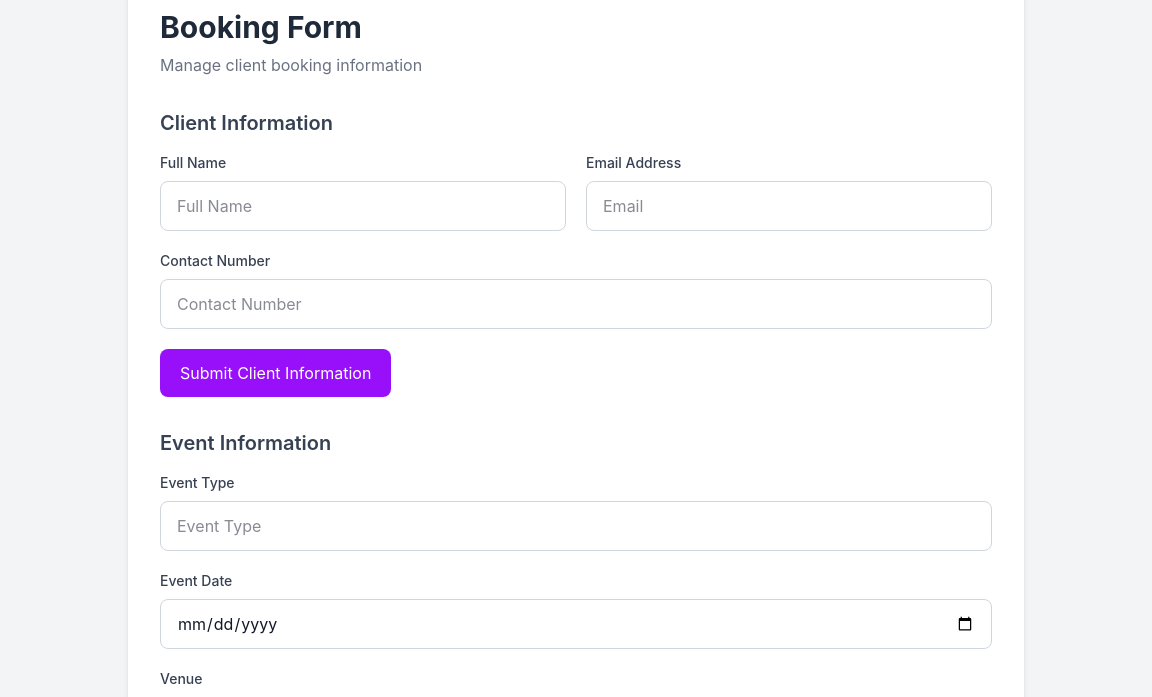
Test: BookingForm Component › shows error message when some fields are missing
The width and height of the screenshot is (1152, 697).
Type "Juan Dela Cruz" into the field with placeholder "Full Name".
click(363, 206); type("Juan Dela Cruz")  # box left=160, top=181, right=566, bottom=231
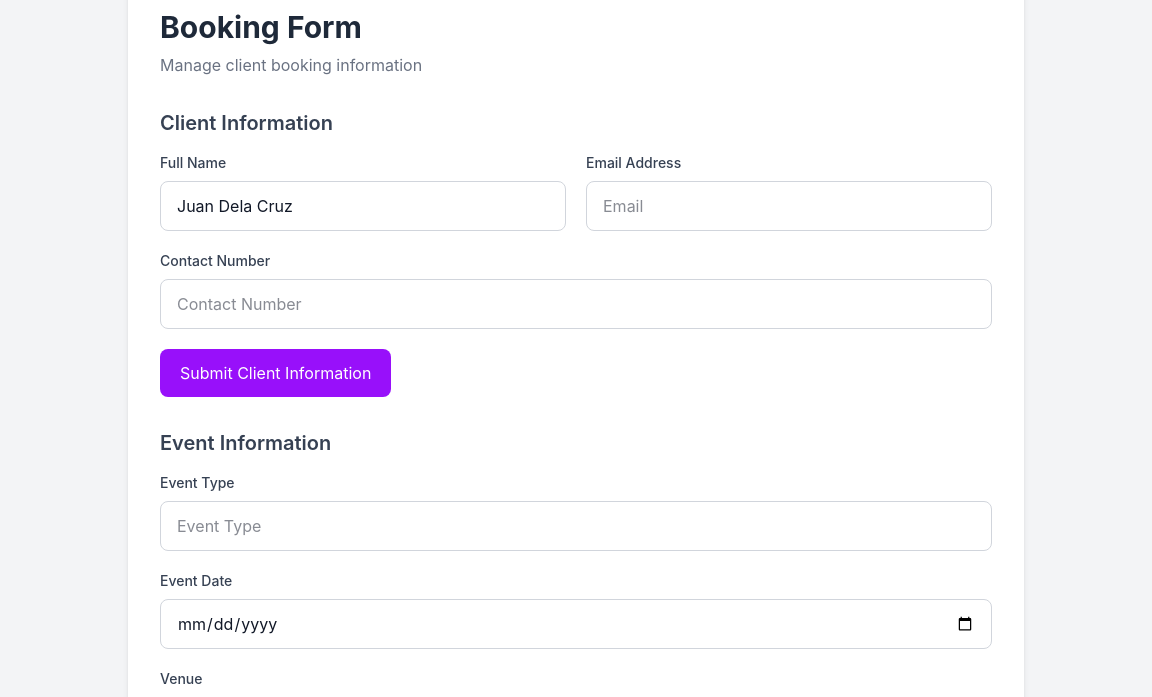
Type "juan@gmail.com" into the field with placeholder "Email".
click(789, 206); type("juan@gmail.com")  # box left=586, top=181, right=992, bottom=231
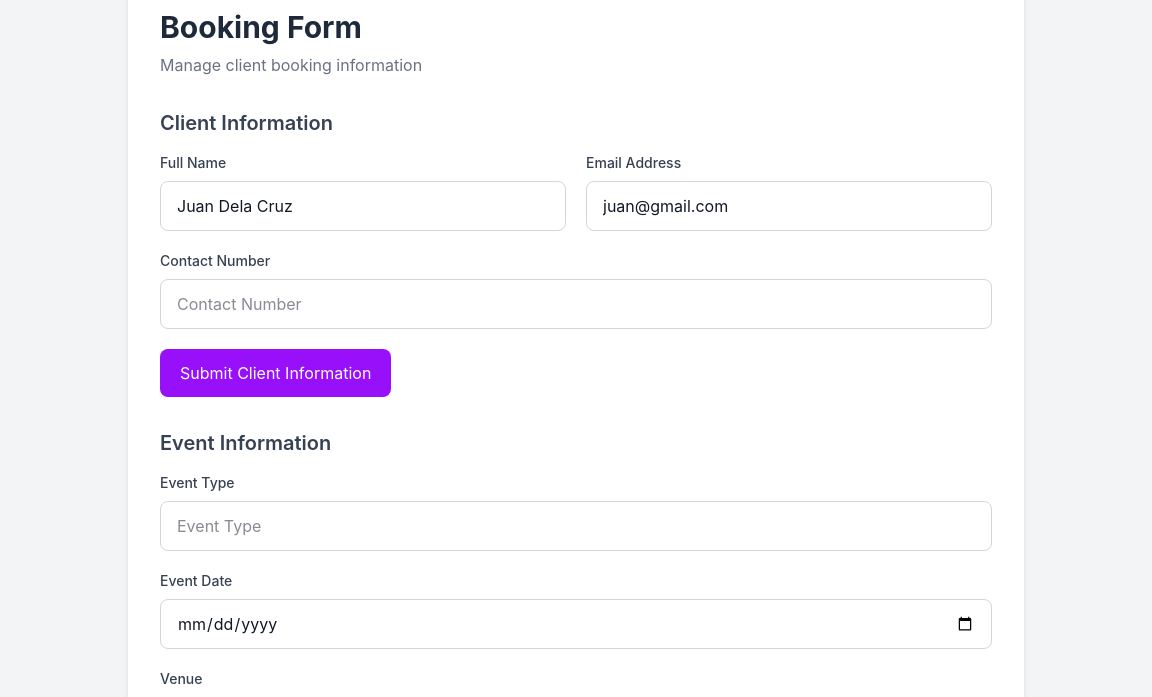
Type "09123456789" into the field with placeholder "Contact Number".
click(576, 304); type("09123456789")  # box left=160, top=279, right=992, bottom=329
(page scrolled)
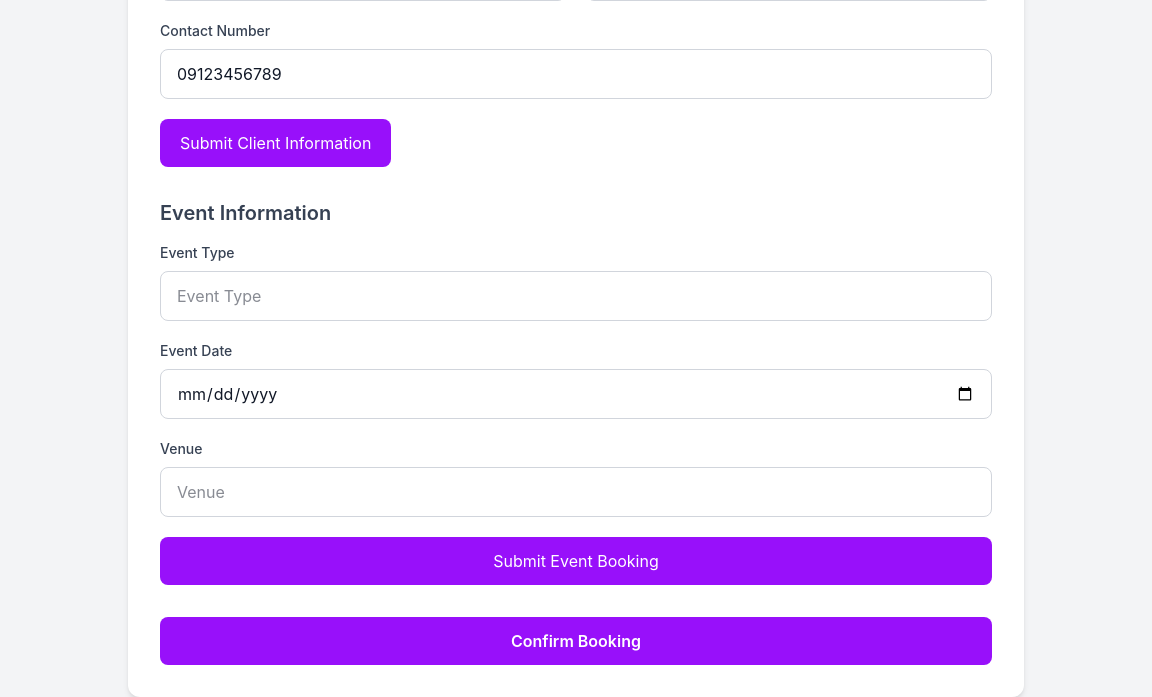
Click the button "Confirm Booking".
click(576, 641)  # box left=160, top=617, right=992, bottom=665
(page scrolled)
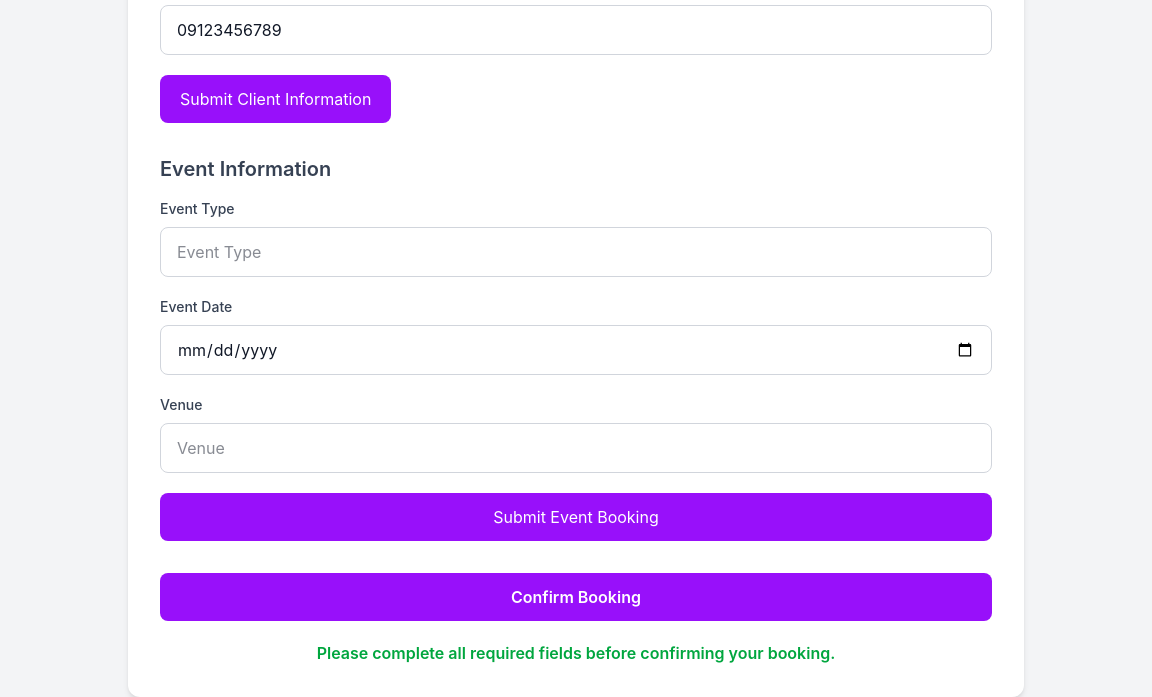
Expected: the text "Please complete all required fields before confirming your booking." is shown, left=317, top=643, right=835, bottom=663
